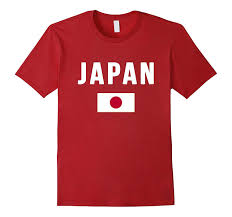Japanese Flag: (93, 91, 140, 115)
